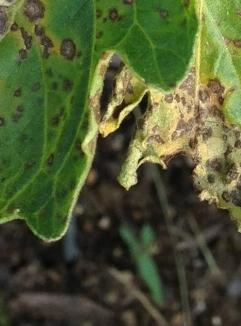Tomato Septoria leaf spot: (0, 0, 241, 326), (64, 0, 241, 246)
